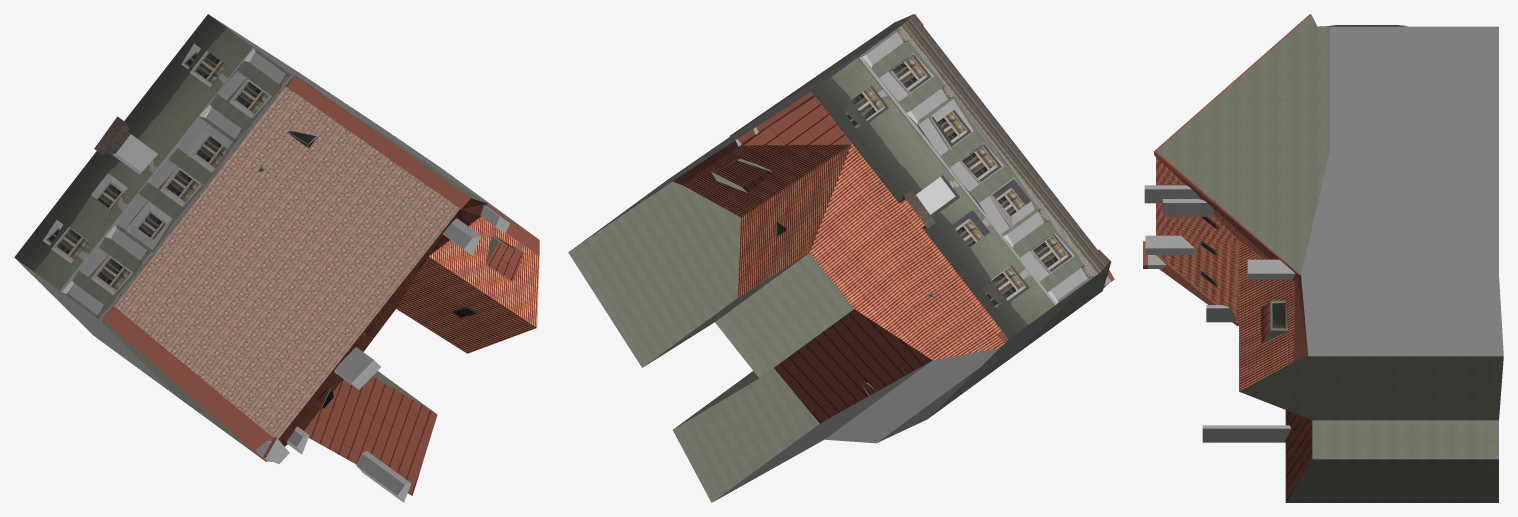
The model's file is Lai_12-origo.obj.
3 renders of one model, left to right at view 1: azimuth 30°, elevation 25°; view 2: azimuth 150°, elevation 25°; view 3: azimuth 270°, elevation 25°, orthographic.
Visible parts, largest first — view 1: Lai_12; view 2: Lai_12; view 3: Lai_12.
Part boxes in pixels (x1,y1,x2,y2): Lai_12: [14, 14, 539, 502]; Lai_12: [568, 14, 1114, 502]; Lai_12: [1143, 14, 1503, 502].
Bounding box in the file's own units: 25.62 × 24.5 × 18.31.
